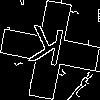K: (25, 25, 67, 76)
